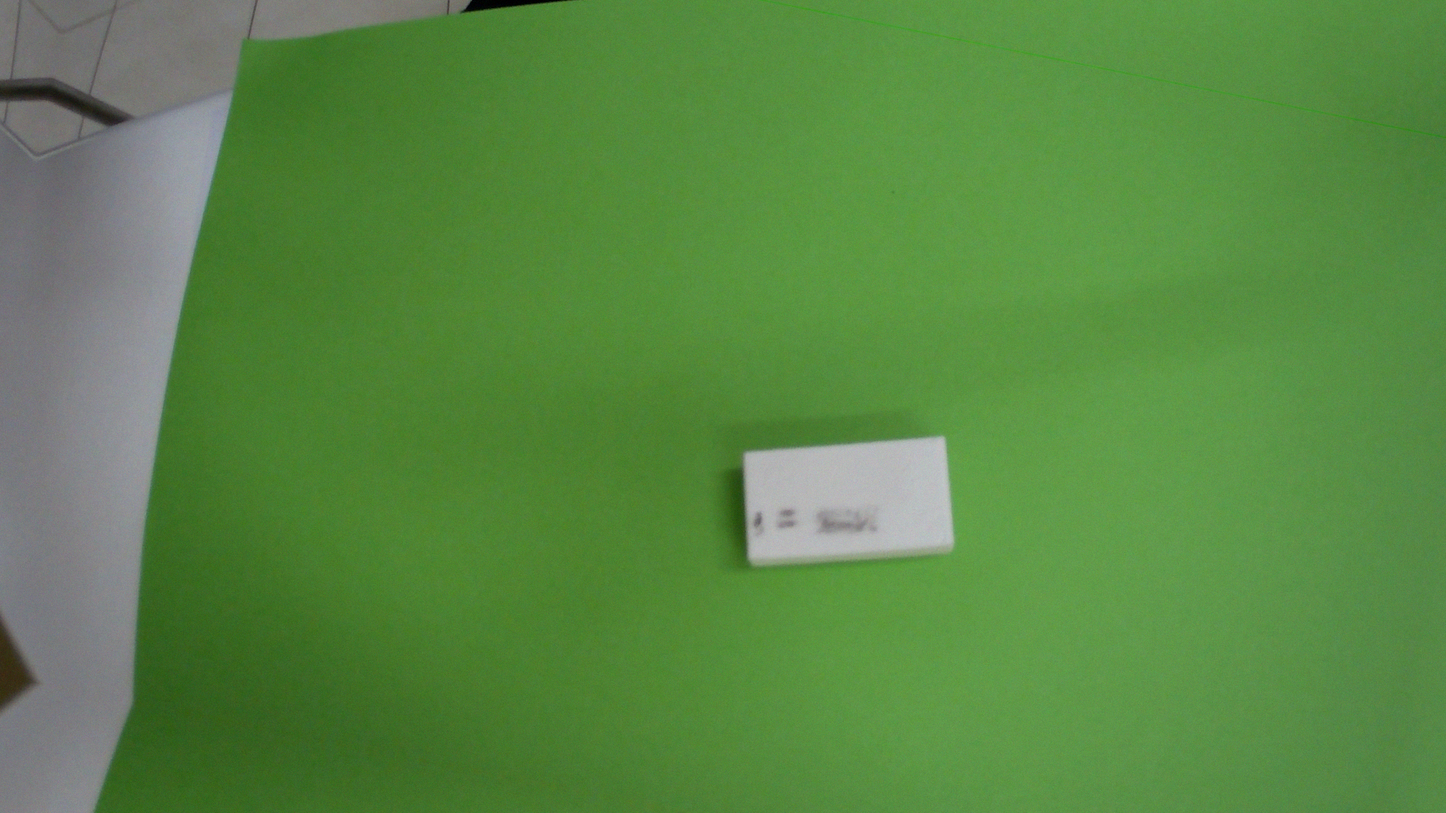gom: (709, 395, 975, 607)
